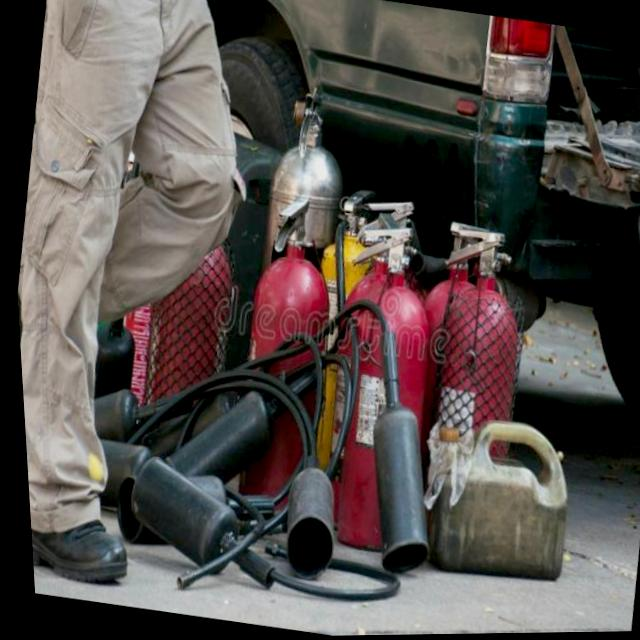FireExtinguisher: (195, 185, 383, 595), (214, 77, 379, 521), (293, 211, 475, 589), (109, 140, 271, 540), (394, 216, 559, 546), (262, 172, 401, 548)
